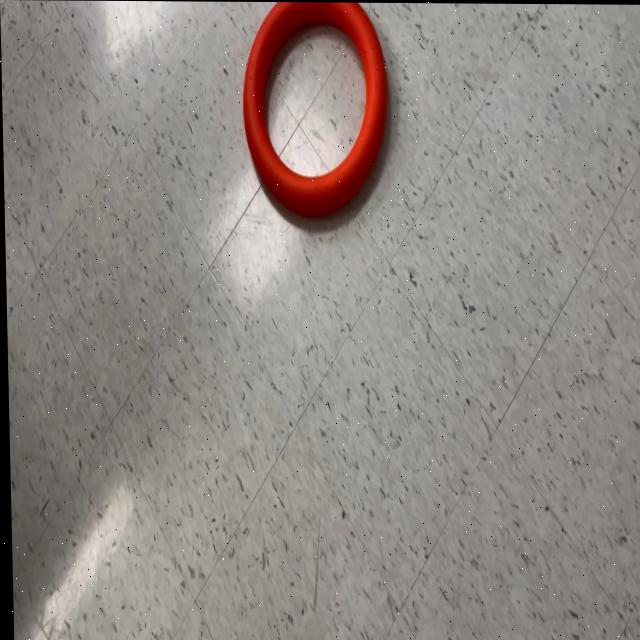note: (240, 1, 390, 220)
